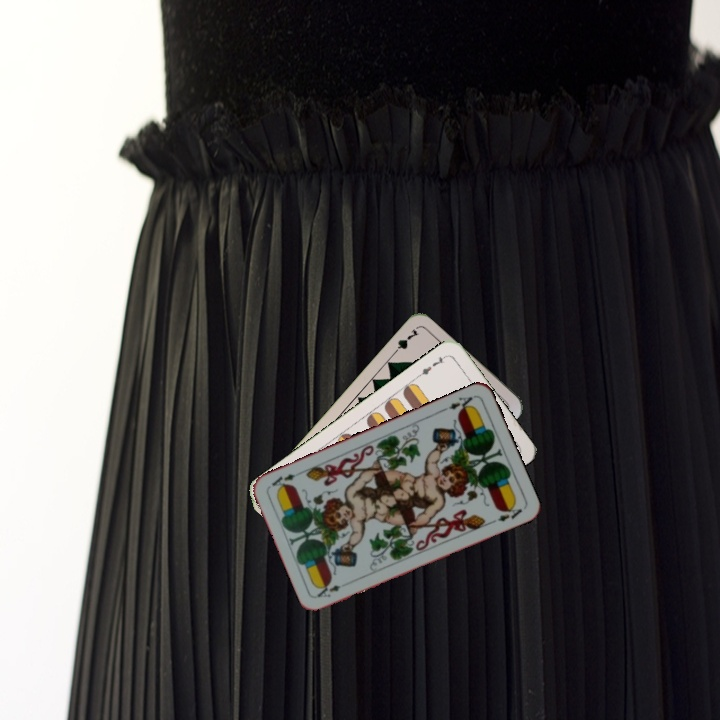E7: (414, 351, 449, 380)
EA: (438, 392, 477, 415), (313, 581, 343, 600)
G7: (388, 325, 422, 358)
